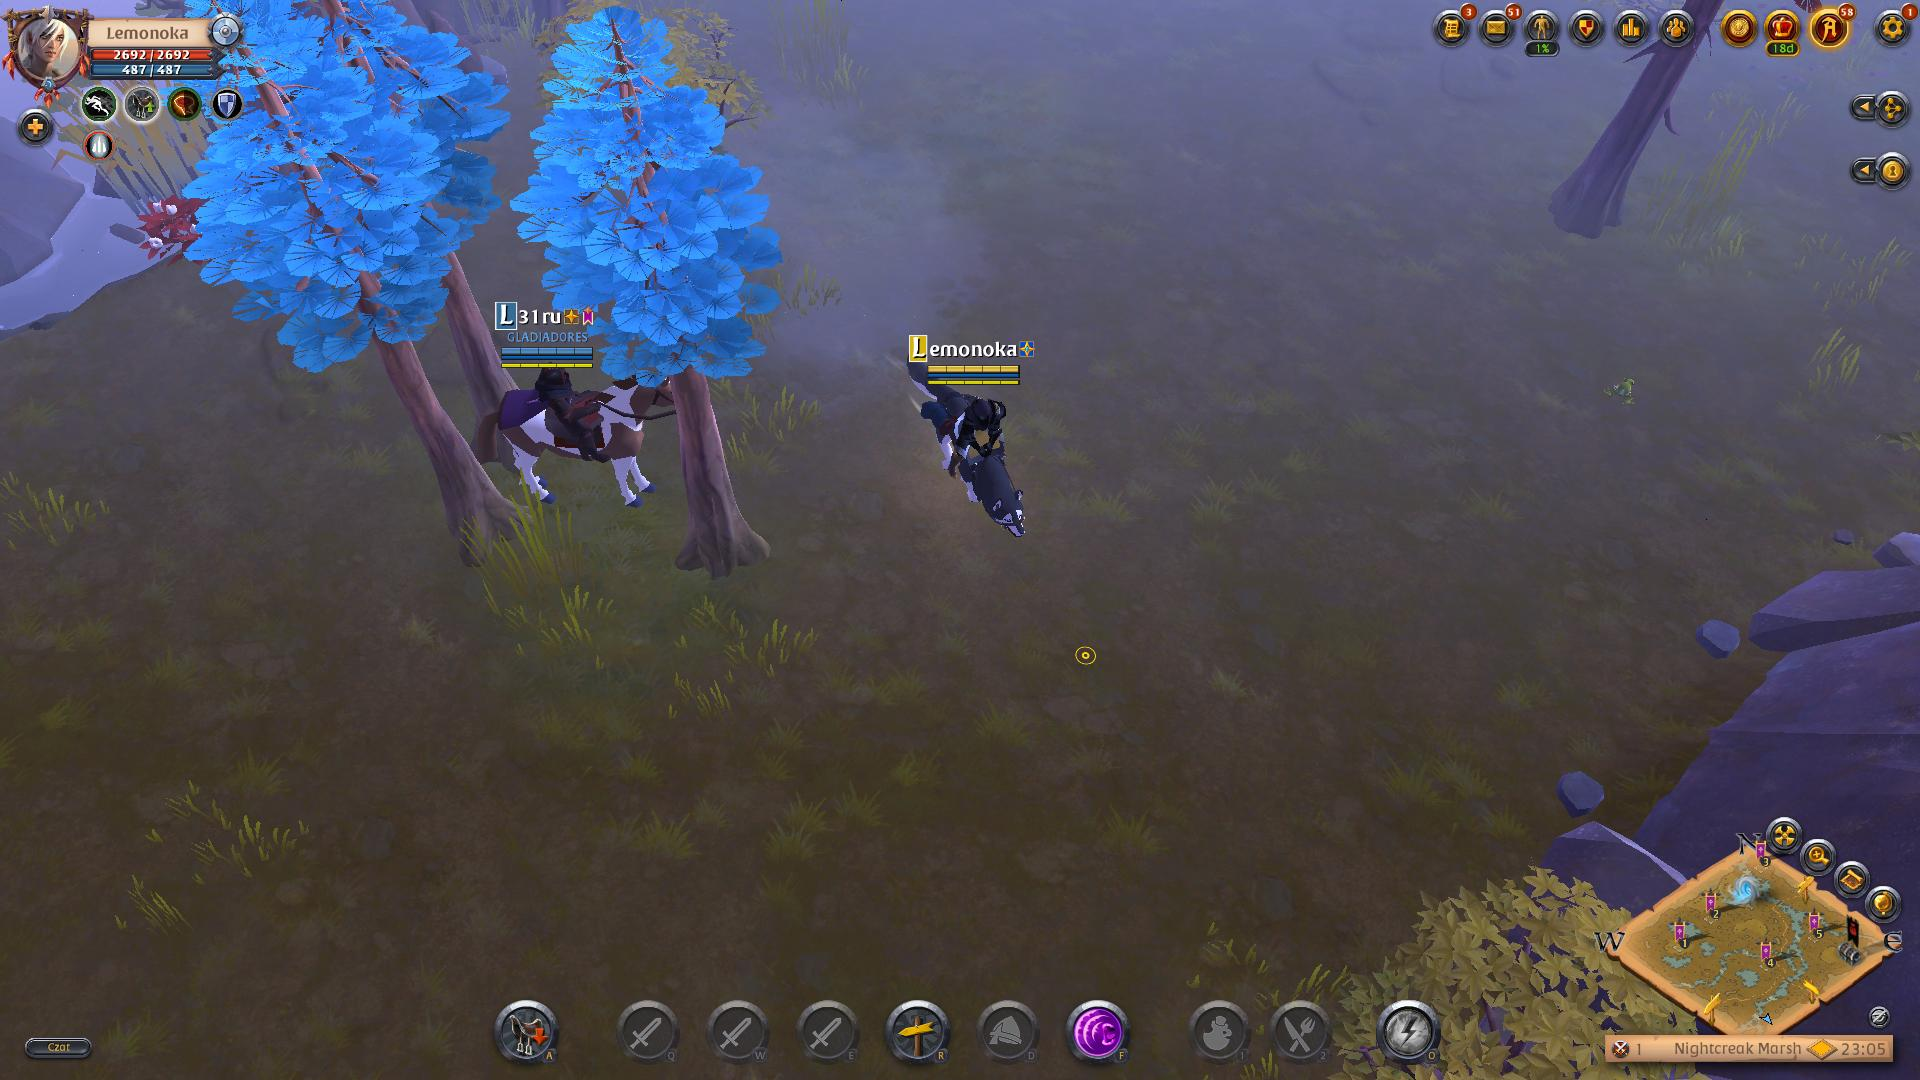wood tier 4: (513, 11, 782, 398)
